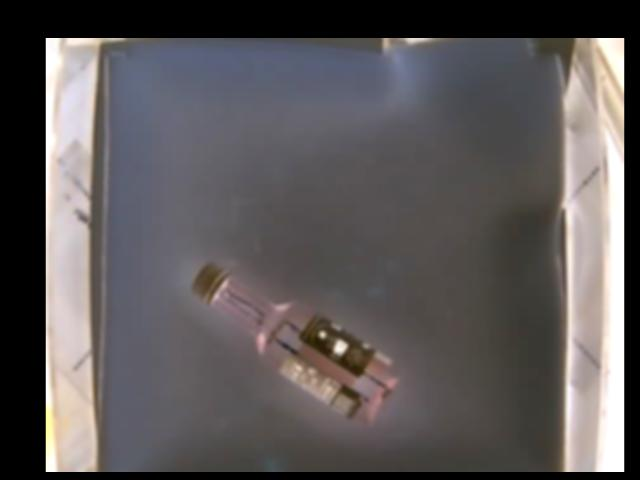Bottle: (192, 262, 396, 421)
